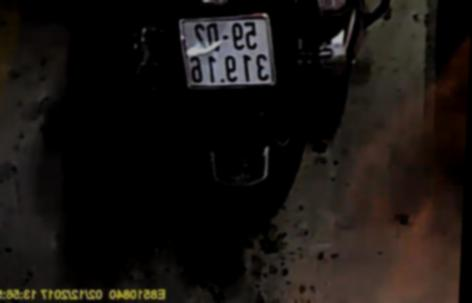License_Plate: (184, 13, 274, 91)
